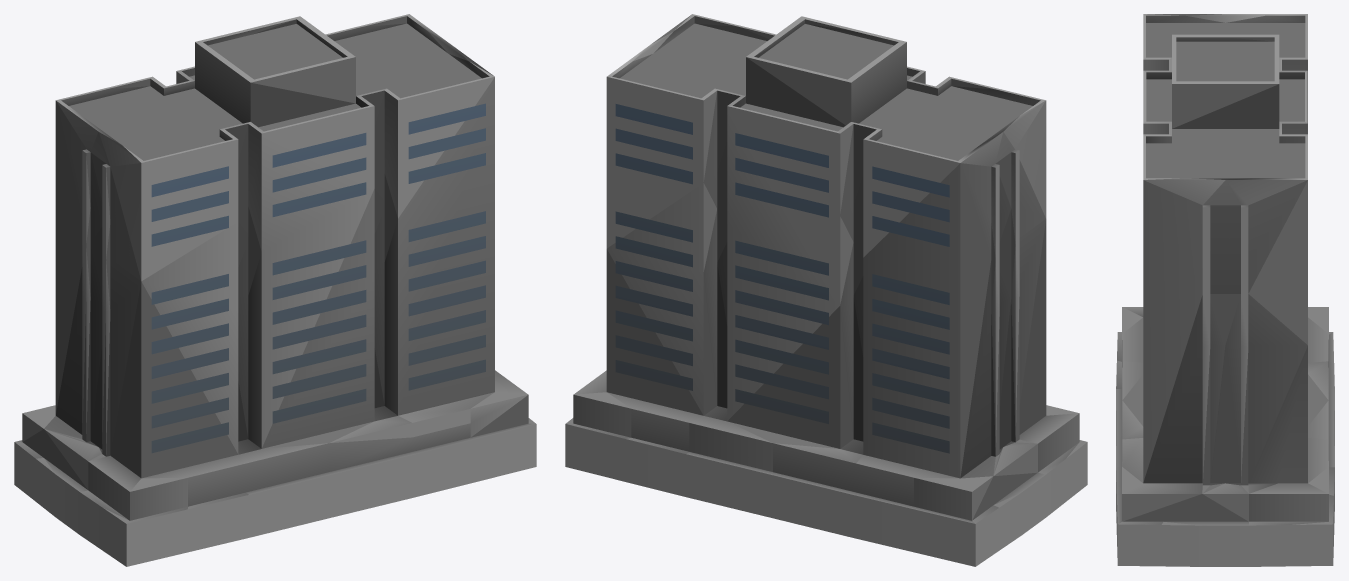
File: buildings-industrial-wideofficebuilding_v1.glb
The picture shows the model from 3 angles, left to right: view 1: azimuth 30°, elevation 25°; view 2: azimuth 150°, elevation 25°; view 3: azimuth 270°, elevation 25°; orthographic projection. The views are drawn at different scales.
Parts seen in each view (by area): view 1: WideOfficeBuilding_v1_base, WideOfficeBuilding_v1_windowRefl; view 2: WideOfficeBuilding_v1_base, WideOfficeBuilding_v1_windowRefl; view 3: WideOfficeBuilding_v1_base.
Part boxes in pixels (x1=…): WideOfficeBuilding_v1_base: x1=14, y1=14, x2=536, y2=566; WideOfficeBuilding_v1_windowRefl: x1=151, y1=103, x2=485, y2=453; WideOfficeBuilding_v1_base: x1=565, y1=14, x2=1087, y2=566; WideOfficeBuilding_v1_windowRefl: x1=615, y1=104, x2=949, y2=453; WideOfficeBuilding_v1_base: x1=1116, y1=14, x2=1334, y2=566.
Size of the model in its own units: 49.97 by 49.1 by 23.74.
